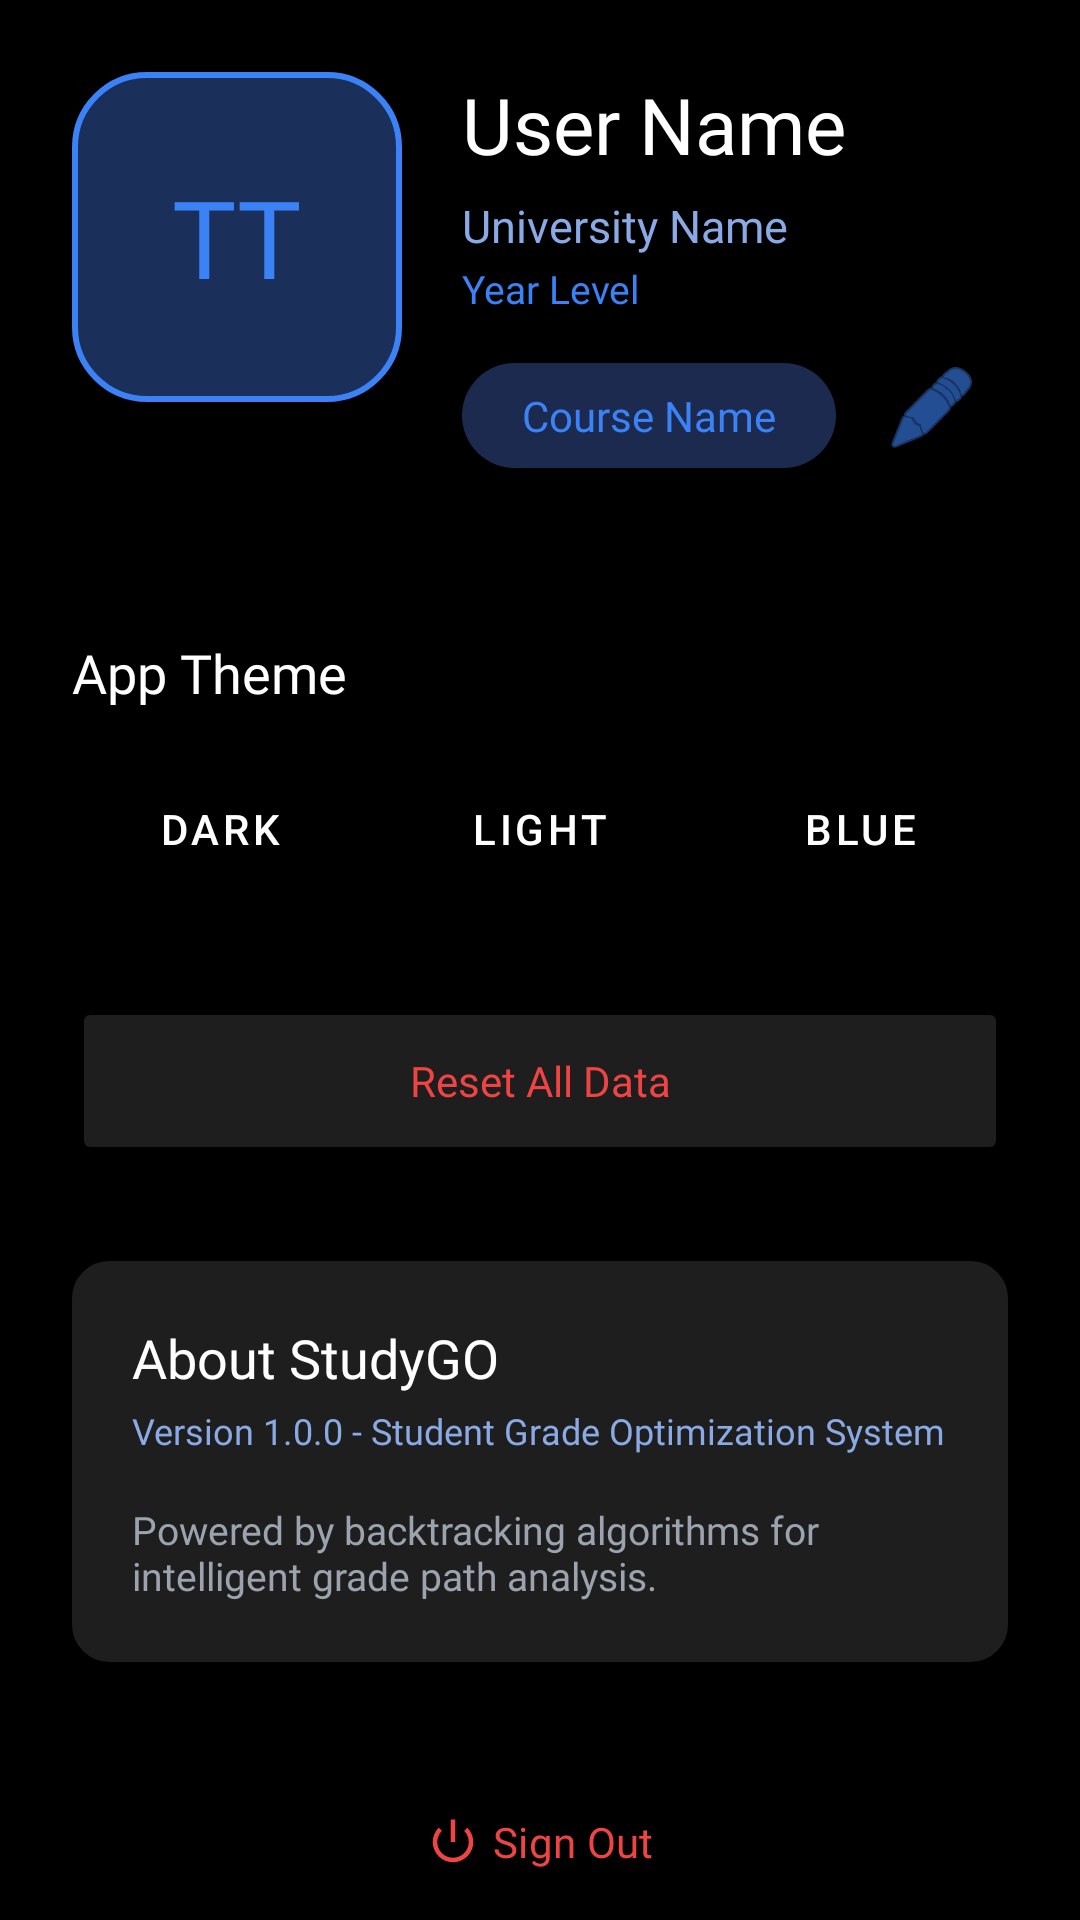

Named icons in this screenshot (1080 x 1920) and their centers, (x,y):
Edit Profile: (931,407)
